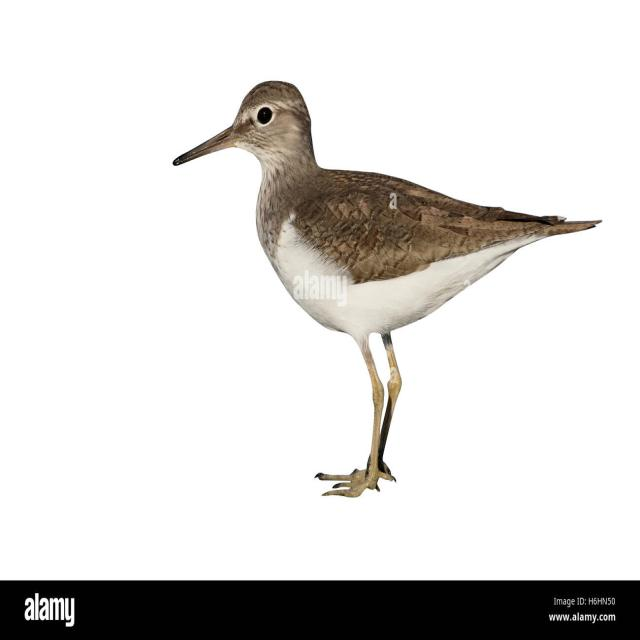Sandpiper: (172, 70, 606, 506)
